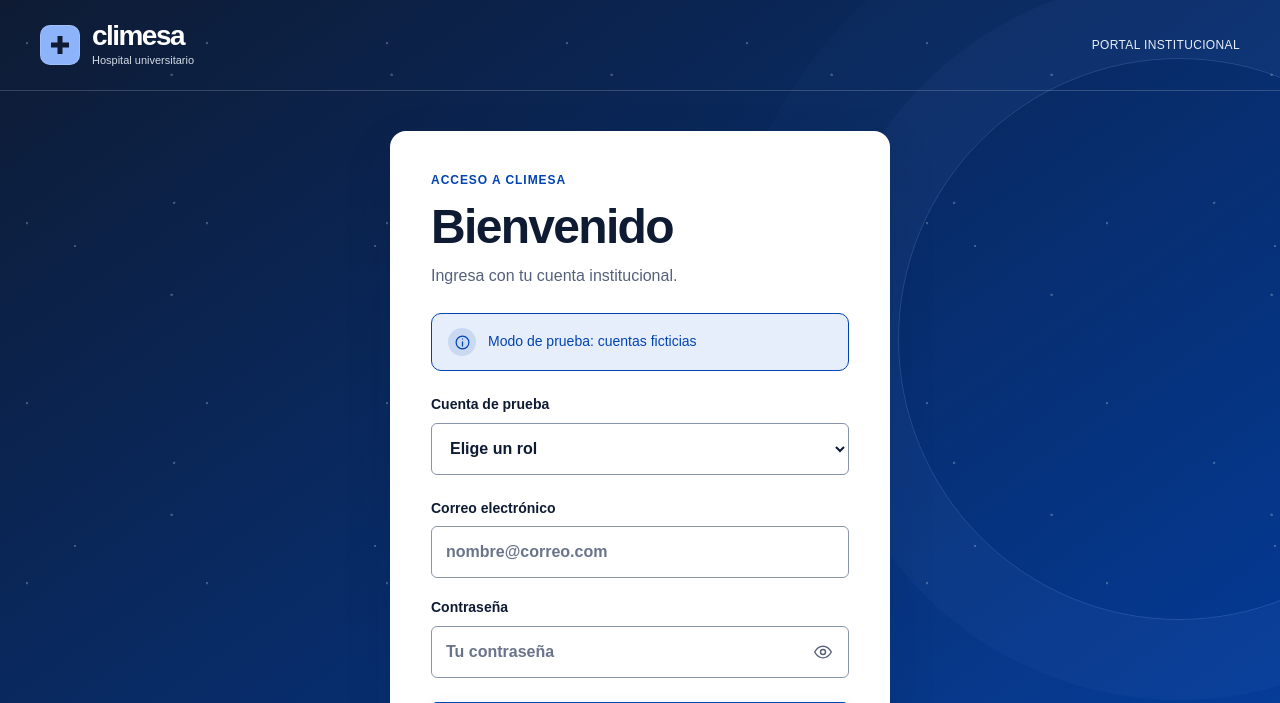
Scenario: login de prueba (temporal) › elegir un rol llena el correo y la contraseña; el usuario todavía pulsa Iniciar sesión
Expected: the text "Modo de prueba: cuentas ficticias" is shown, [488, 328, 697, 353]
Select "REC · rec@example.test" in the dropdown labelled "Cuenta de prueba": {"x": 640, "y": 449} [431, 423, 849, 475]
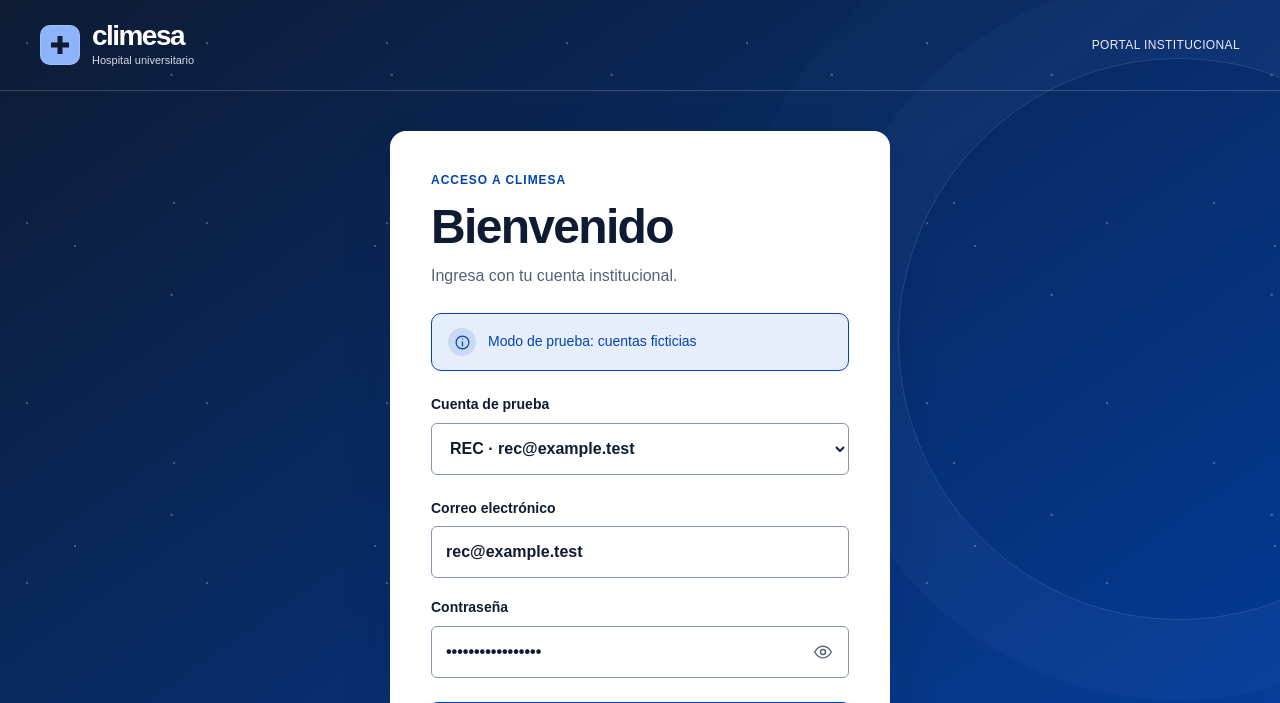
Now the field labelled "Correo electrónico" holds "rec@example.test", box [431, 526, 849, 578]
Now the password field labelled "Contraseña" holds "Placeholder-REC-1", box [431, 626, 849, 678]
